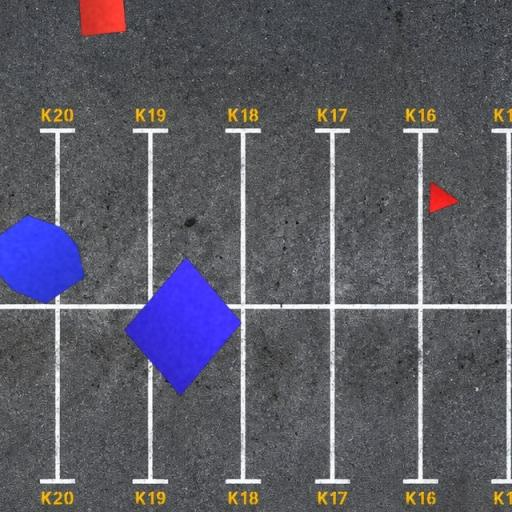BLUE_SQUARE: (124, 257, 242, 397)
RED_SQUARE: (78, 0, 127, 37)
